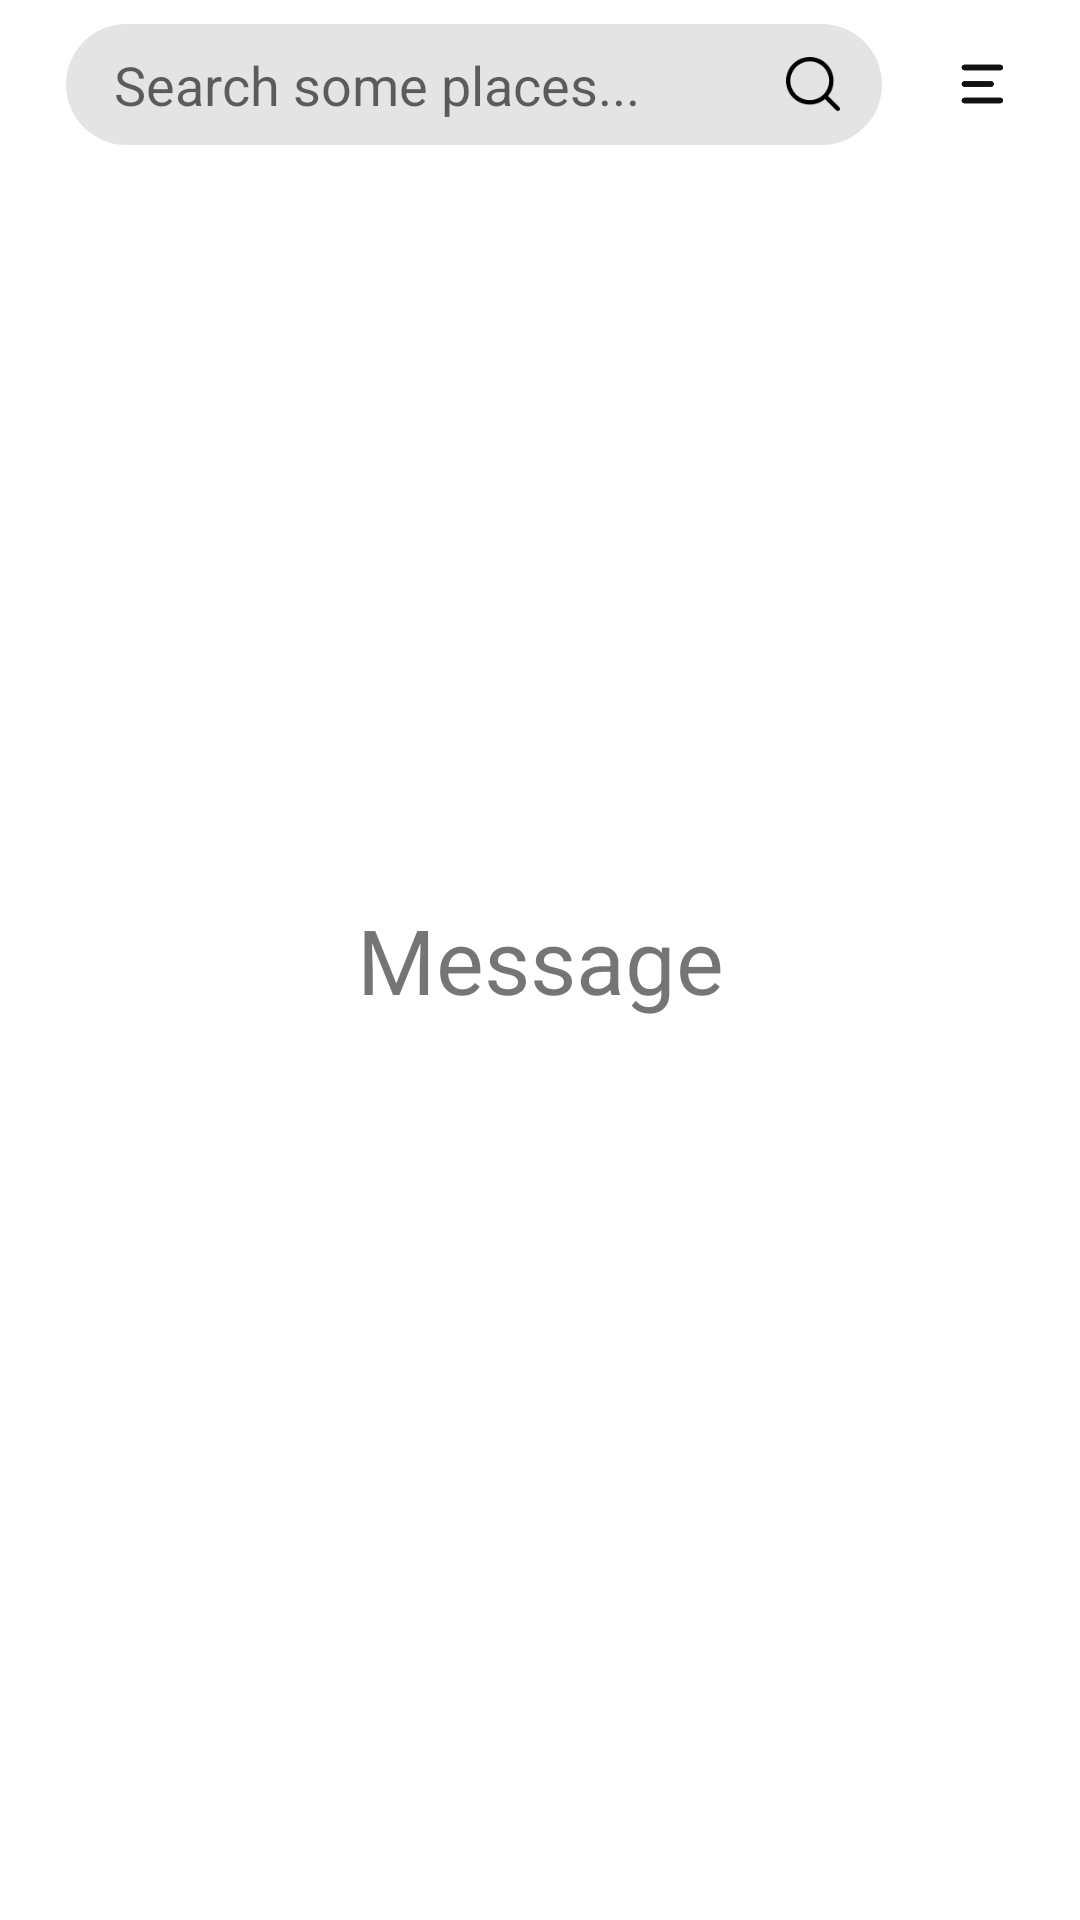

Icons on this 1080 × 1920 Android screen, each with its box as BBox(x1, y1, x2, y2):
burger: BBox(961, 64, 1003, 104)
loupe: BBox(786, 57, 840, 111)
